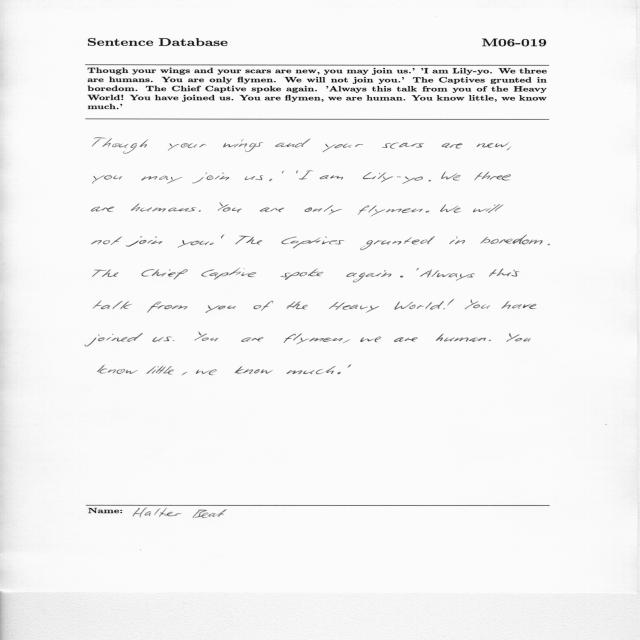word: (360, 236, 435, 250), (92, 138, 148, 154), (281, 237, 345, 249), (85, 333, 143, 346), (363, 172, 423, 184), (358, 206, 423, 217), (202, 268, 257, 280), (420, 269, 475, 281), (283, 334, 343, 345), (131, 204, 196, 213), (347, 270, 392, 283), (480, 235, 543, 244), (329, 302, 379, 313), (223, 139, 263, 152), (141, 269, 188, 280), (281, 269, 324, 280), (147, 302, 188, 313), (394, 301, 444, 310), (436, 333, 486, 342), (192, 173, 229, 184), (286, 366, 336, 374), (126, 236, 162, 247), (304, 205, 342, 215), (98, 365, 138, 374), (474, 172, 511, 181), (323, 144, 364, 152), (141, 176, 182, 184), (275, 139, 311, 148), (93, 301, 132, 309), (234, 366, 273, 374), (168, 143, 206, 151), (178, 240, 214, 248), (502, 301, 537, 309), (91, 236, 122, 245), (473, 204, 503, 213), (489, 268, 519, 277), (383, 143, 425, 149), (465, 300, 490, 310), (205, 305, 236, 313), (218, 203, 242, 213), (93, 175, 122, 183), (506, 333, 531, 342), (147, 366, 174, 374), (93, 269, 119, 277), (254, 301, 274, 311), (198, 332, 218, 342), (477, 142, 510, 148), (441, 204, 462, 213), (441, 172, 461, 181), (287, 302, 308, 310), (246, 237, 262, 245), (449, 236, 465, 244), (360, 337, 381, 343), (196, 369, 217, 375), (299, 171, 314, 179), (260, 207, 284, 212), (236, 236, 251, 244), (394, 337, 418, 342), (320, 175, 343, 180), (92, 207, 115, 212), (241, 337, 264, 342), (443, 300, 454, 310), (442, 143, 462, 148), (153, 337, 173, 342), (245, 175, 264, 180), (195, 334, 207, 341), (343, 340, 350, 344), (506, 147, 511, 151), (182, 372, 187, 375), (426, 210, 429, 213), (221, 235, 224, 238), (348, 365, 351, 368), (337, 372, 341, 374), (270, 179, 273, 181), (428, 180, 431, 182), (198, 210, 201, 212), (547, 244, 550, 246), (400, 276, 403, 278), (416, 268, 419, 270), (282, 171, 284, 173), (296, 171, 298, 173), (488, 340, 491, 341)
